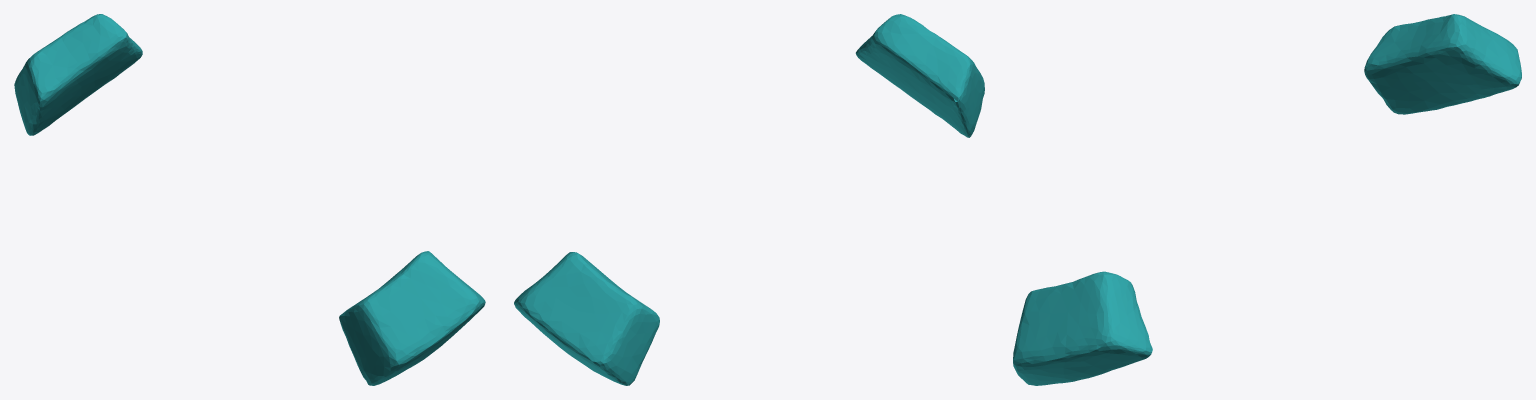
3 views of the same model, side by side, from view 1: azimuth 30°, elevation 25°; view 2: azimuth 150°, elevation 25°; view 3: azimuth 330°, elevation 25° (orthographic). The views are drawn at different scales.
Visible parts, largest first — view 1: 409.obj; view 2: 409.obj; view 3: 409.obj.
Part boxes in pixels (x1,y1,x2,y2): 409.obj: [14, 14, 485, 385]; 409.obj: [514, 14, 984, 385]; 409.obj: [1013, 14, 1521, 385].
Bounding box in the file's own units: 1513 × 1311 × 8114.
